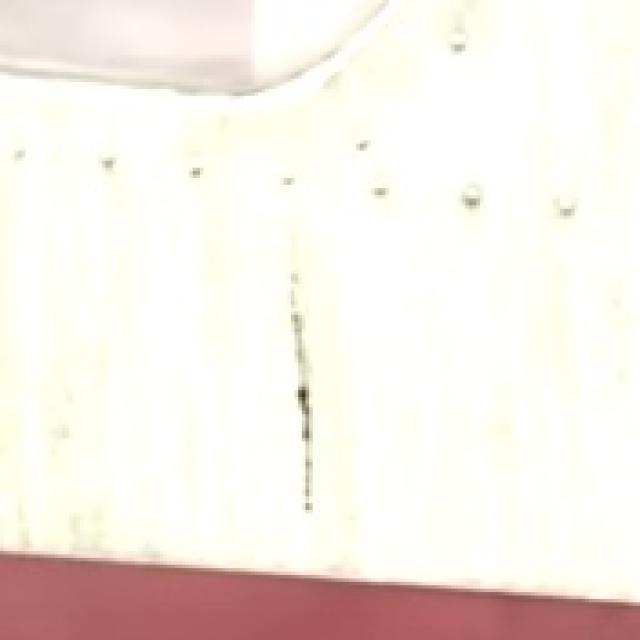crack: (245, 251, 376, 535)
